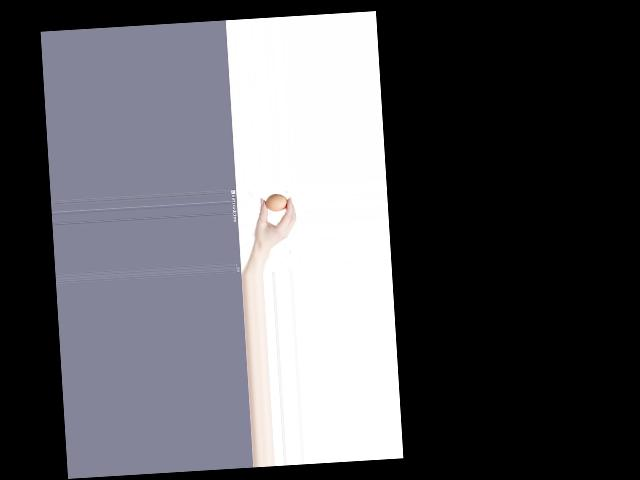egg: (265, 193, 287, 212)
